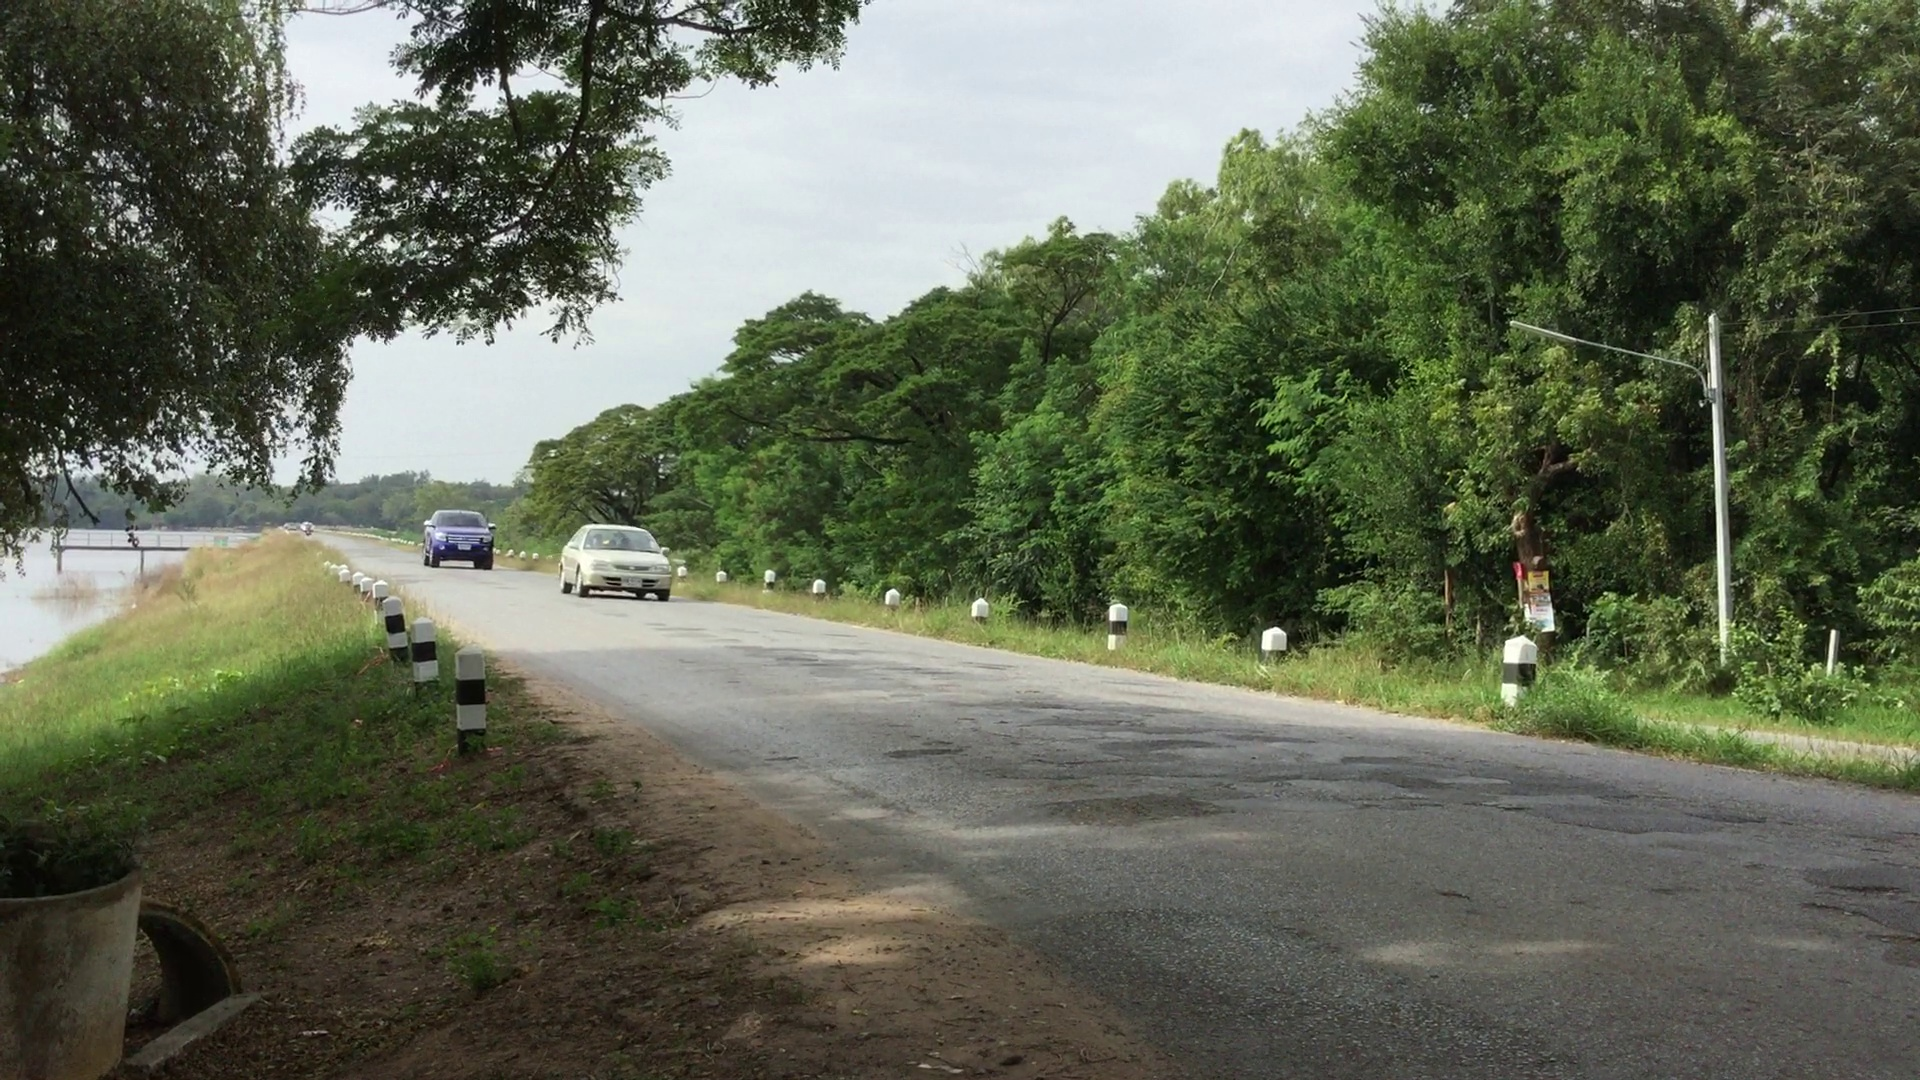car: (556, 524, 673, 600), (425, 510, 496, 566)
